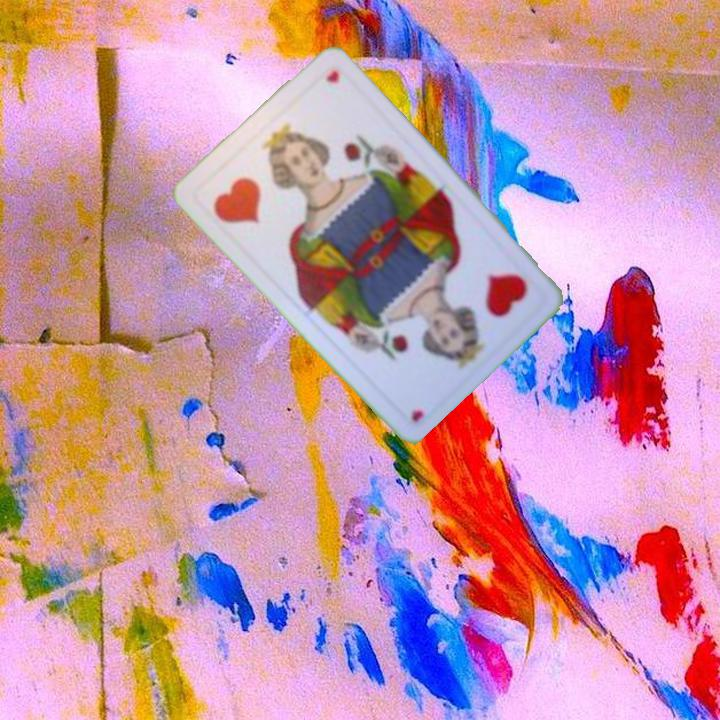h_q.png: (420, 233, 549, 362), (190, 126, 319, 254)
